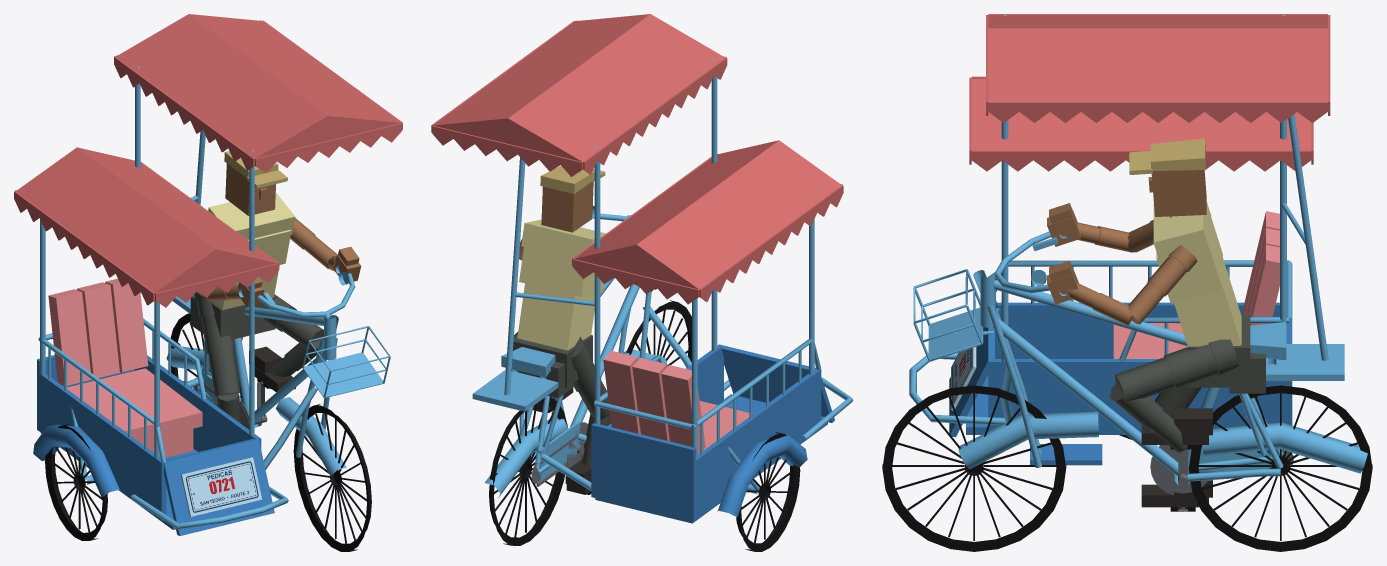
Rendered from padyak.glb.
3 renders of one model, left to right at view 1: azimuth 30°, elevation 25°; view 2: azimuth 150°, elevation 25°; view 3: azimuth 270°, elevation 25°, orthographic. The views are drawn at different scales.
Visible parts, largest first — view 1: Canopy, SidecarBody, SidecarSeat, SidecarFrame, Spin (×3), Fork, Frame, Torso, Plate, Leg_R, Pelvis, Head (+9 smaller); view 2: Canopy, SidecarBody, SidecarFrame, Frame, Torso, SidecarSeat, Spin (×3), Head, Pelvis, Leg_R, Hat, Fork (+1 smaller); view 3: Canopy, SidecarBody, Frame, Spin (×2), Fork, SidecarFrame, Torso, SidecarSeat, Leg_L, Head, Pelvis, Hat (+12 smaller).
Boxes of the visible parts, x1,y1,x2,y2 form: Canopy: (14, 14, 402, 307); SidecarBody: (33, 355, 274, 535); SidecarSeat: (48, 278, 202, 457); SidecarFrame: (38, 66, 317, 529); Spin (×3): (45, 313, 371, 551); Fork: (238, 265, 390, 477); Frame: (166, 293, 336, 427); Torso: (208, 192, 295, 310); Plate: (184, 460, 259, 513); Leg_R: (196, 298, 240, 396); Pelvis: (190, 291, 275, 339); Head: (225, 163, 275, 215); Canopy: (431, 14, 843, 304); SidecarBody: (591, 344, 834, 523); SidecarFrame: (504, 59, 853, 494); Frame: (472, 277, 639, 498); Torso: (517, 219, 605, 350); SidecarSeat: (603, 350, 752, 454); Spin (×3): (489, 300, 800, 551); Head: (541, 180, 593, 232); Pelvis: (505, 335, 592, 398); Leg_R: (571, 337, 610, 419); Hat: (540, 166, 605, 193); Fork: (592, 205, 667, 370); Canopy: (969, 14, 1330, 171); SidecarBody: (949, 302, 1292, 465); Frame: (980, 274, 1367, 485); Spin (×2): (882, 385, 1372, 551); Fork: (913, 231, 1098, 469); SidecarFrame: (909, 15, 1328, 425); Torso: (1153, 202, 1241, 346); SidecarSeat: (1113, 211, 1279, 358); Leg_L: (1115, 339, 1238, 402); Head: (1148, 170, 1206, 217); Pelvis: (1188, 315, 1265, 393); Hat: (1129, 138, 1205, 174).
Bounding box in the file's own units: 1.34 × 2.06 × 1.76.
13 materials, 1 textured.
